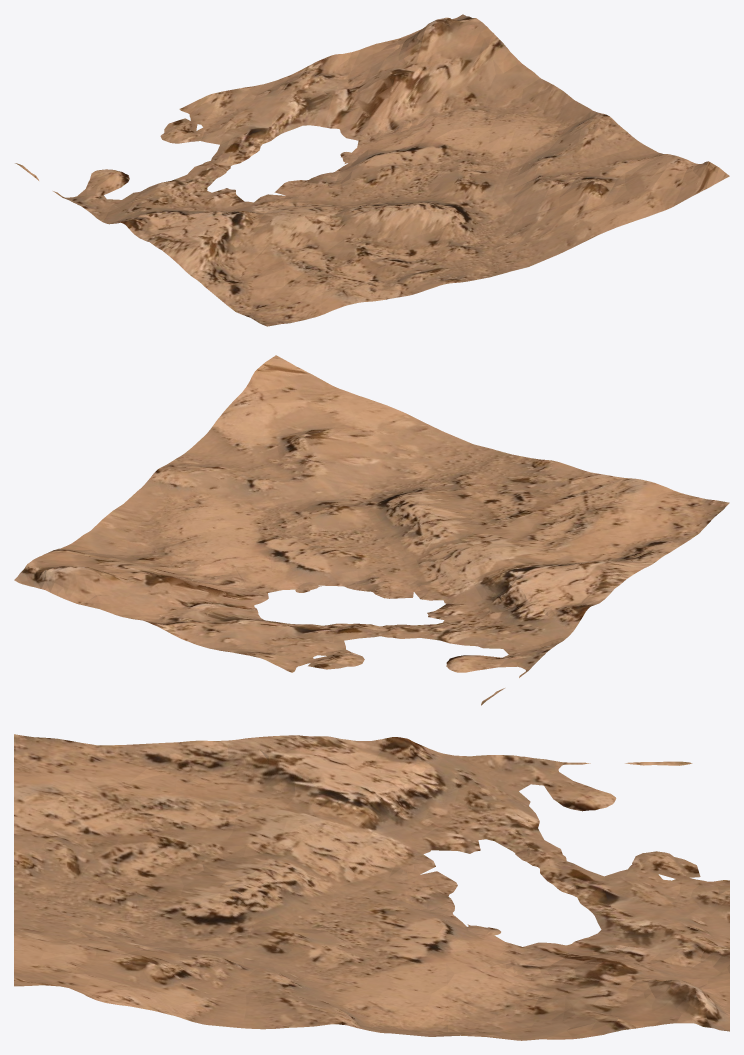
3 renders of one model, top to bottom at view 1: azimuth 30°, elevation 25°; view 2: azimuth 150°, elevation 25°; view 3: azimuth 270°, elevation 25°, orthographic. The views are drawn at different scales.
Size of the model in its own units: 2.09 by 0.259 by 2.09.
2 materials, 2 textured.
